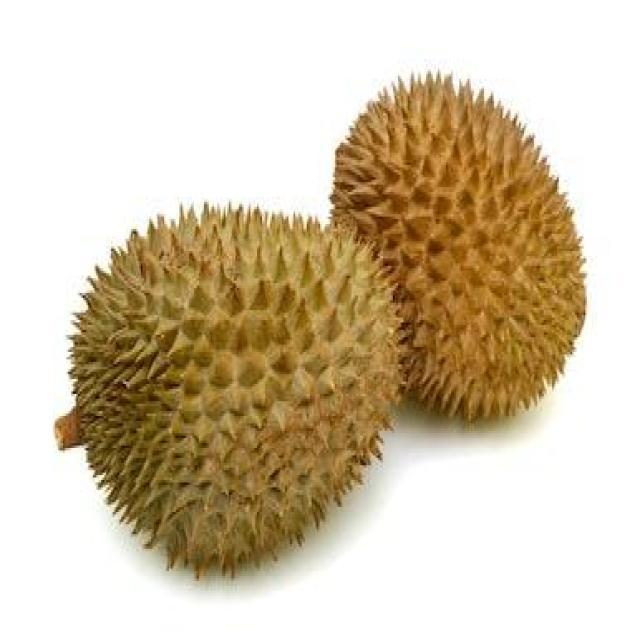mature: (56, 206, 400, 574), (332, 74, 585, 418)
